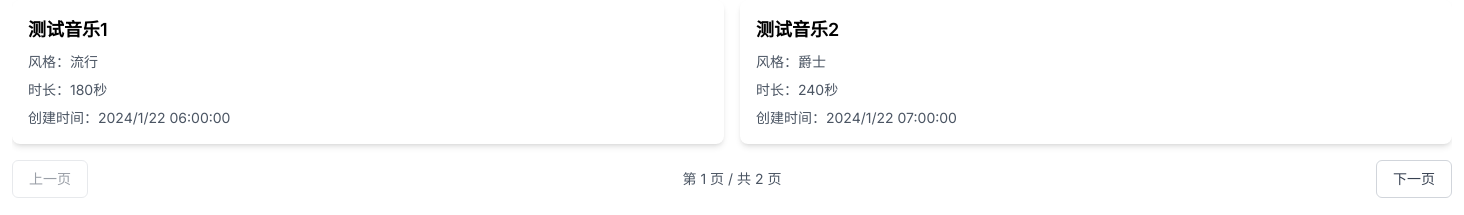
Scenario: Music List and Player Integration › 应该正确处理分页
The width and height of the screenshot is (1464, 215).
Check: the element with test id "music-card-1" is shown, box [12, 0, 724, 144]
Check: the element with test id "music-card-2" is shown, box [740, 0, 1452, 144]
Click the button "下一页" at x=1414, y=179, box [1376, 160, 1452, 198]
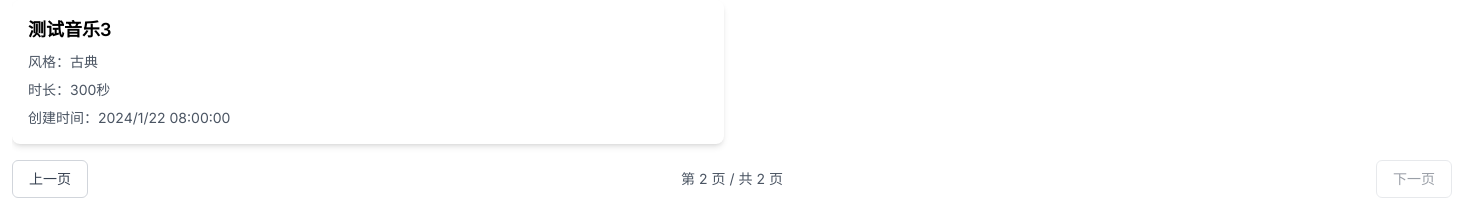
Check: the element with test id "music-card-3" is shown, box [12, 0, 724, 144]
Check: the element with test id "music-card-1" is gone
Check: the element with test id "music-card-2" is gone
